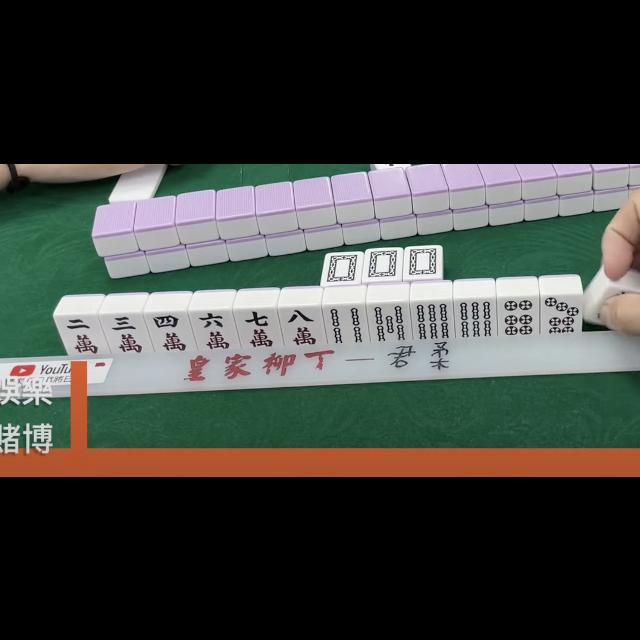b4: (324, 303, 366, 343)
b5: (370, 302, 410, 343)
b6: (456, 298, 496, 338), (413, 300, 452, 340)
c2: (59, 313, 103, 357)
c3: (104, 312, 148, 358)
c4: (148, 310, 192, 356)
c6: (194, 309, 236, 353)
c7: (237, 307, 280, 348)
c8: (283, 306, 323, 352)
d6: (499, 296, 538, 338)
d7: (540, 294, 582, 332)
dw: (323, 252, 362, 284), (364, 248, 402, 280), (405, 246, 441, 278)
